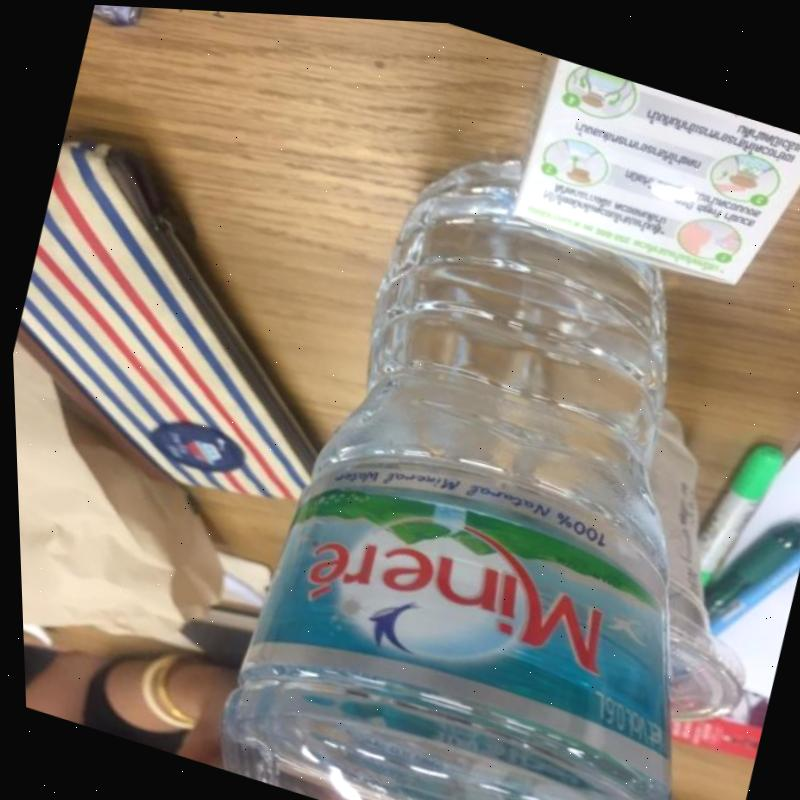botella: (186, 100, 800, 800)
